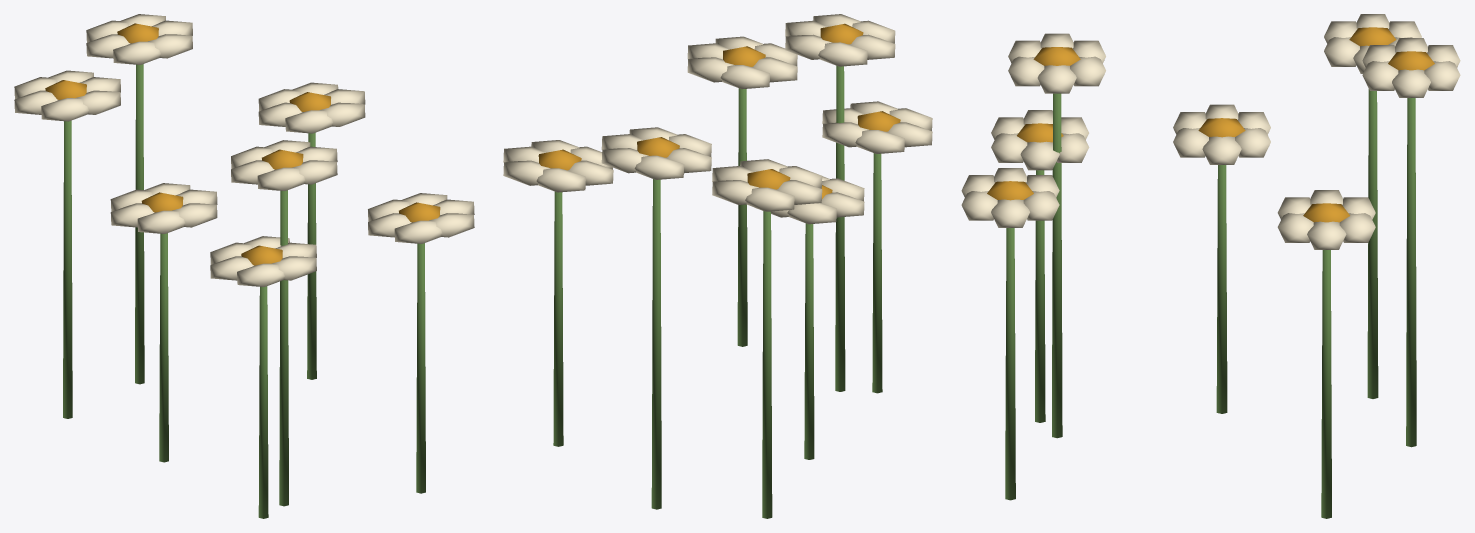
File: SM_Env_FlowerPatch.fbx
3 renders of one model, left to right at view 1: azimuth 30°, elevation 25°; view 2: azimuth 150°, elevation 25°; view 3: azimuth 270°, elevation 25°, orthographic. The views are drawn at different scales.
Parts seen in each view (by area): view 1: Flower_stem.004, Flower_stem.001, Flower_stem.003, Flower_stem, Flower_stem.002, Flower_stem.005, Flower_stem.006, Flower_petal.004, Flower_petal.010, Flower_petal.034, Flower_petal.016, Flower_petal.022 (+23 smaller); view 2: Flower_stem.003, Flower_stem.004, Flower_stem.001, Flower_stem.006, Flower_stem.002, Flower_stem.005, Flower_stem, Flower_petal.008, Flower_petal.026, Flower_petal.038, Flower_petal.020, Flower_petal.002 (+32 smaller); view 3: Flower_stem.003, Flower_stem.001, Flower_stem.004, Flower_stem, Flower_stem.006, Flower_stem.005, Flower_stem.002, Flower_petal.006, Flower_petal, Flower_petal.018, Flower_petal.030, Flower_petal.012 (+21 smaller).
Part boxes in pixels (<box>): Flower_stem.004: <box>63,120,72,418</box>; Flower_stem.001: <box>279,190,288,506</box>; Flower_stem.003: <box>135,64,144,384</box>; Flower_stem: <box>416,243,425,493</box>; Flower_stem.002: <box>258,286,268,518</box>; Flower_stem.005: <box>159,233,168,462</box>; Flower_stem.006: <box>307,132,316,379</box>; Flower_petal.004: <box>394,220,442,243</box>; Flower_petal.010: <box>257,167,305,190</box>; Flower_petal.034: <box>137,210,185,233</box>; Flower_petal.016: <box>237,263,284,286</box>; Flower_petal.022: <box>113,41,160,64</box>; Flower_stem.003: <box>651,179,661,509</box>; Flower_stem.004: <box>762,211,772,518</box>; Flower_stem.001: <box>835,65,845,391</box>; Flower_stem.006: <box>553,191,563,446</box>; Flower_stem.002: <box>872,153,882,393</box>; Flower_stem.005: <box>804,223,814,459</box>; Flower_stem: <box>737,88,747,346</box>; Flower_petal.008: <box>818,42,867,66</box>; Flower_petal.026: <box>745,187,794,211</box>; Flower_petal.038: <box>536,168,585,192</box>; Flower_petal.020: <box>634,155,684,179</box>; Flower_petal.002: <box>720,65,769,89</box>; Flower_stem.003: <box>1406,98,1416,447</box>; Flower_stem.001: <box>1052,93,1062,438</box>; Flower_stem.004: <box>1367,89,1378,398</box>; Flower_stem: <box>1005,228,1015,500</box>; Flower_stem.006: <box>1321,250,1331,518</box>; Flower_stem.005: <box>1216,165,1227,413</box>; Flower_stem.002: <box>1035,170,1045,422</box>; Flower_petal.006: <box>1037,65,1076,93</box>; Flower_petal: <box>991,199,1029,227</box>; Flower_petal.018: <box>1392,69,1430,97</box>; Flower_petal.030: <box>1202,136,1241,164</box>; Flower_petal.012: <box>1020,141,1059,170</box>.
Size of the model in its own units: 27.06 by 32.35 by 28.14.
